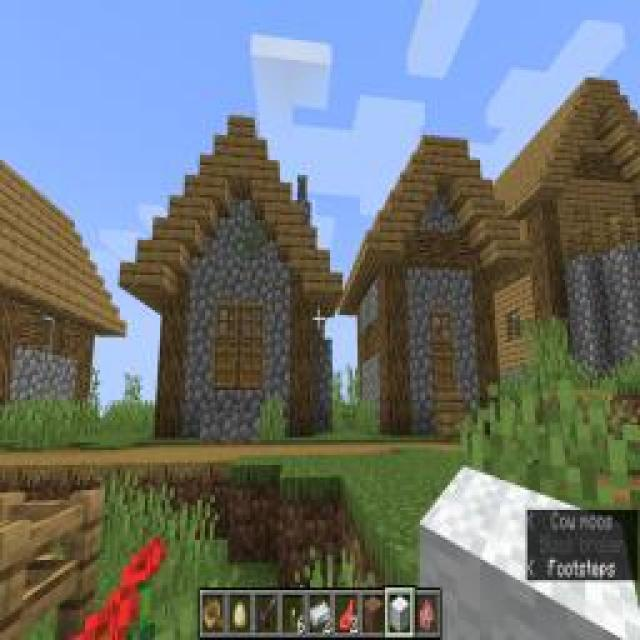Villager: (120, 108, 345, 438), (342, 111, 536, 441)
